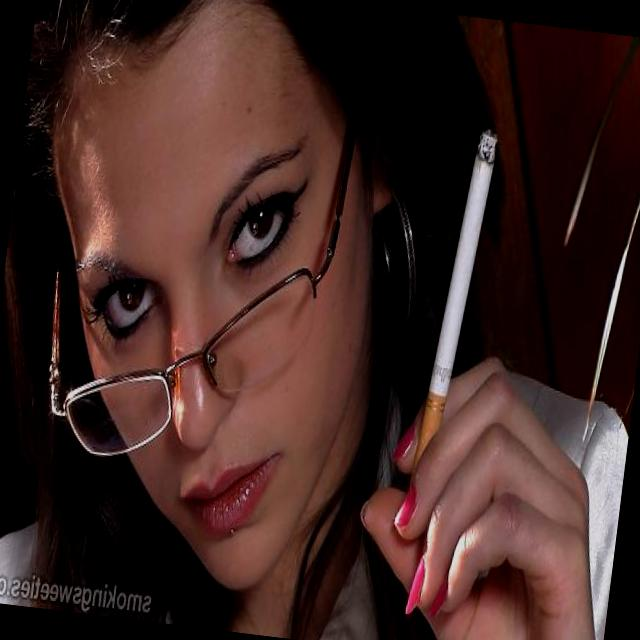cigarette: (392, 90, 516, 548)
